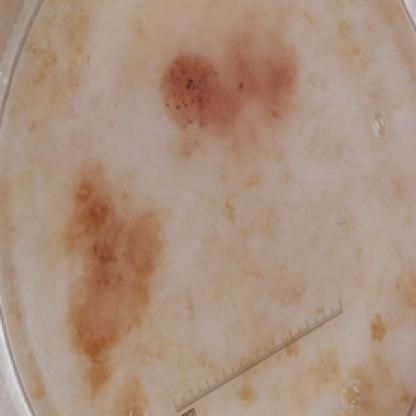malignant: (63, 166, 158, 372), (169, 28, 297, 135)
